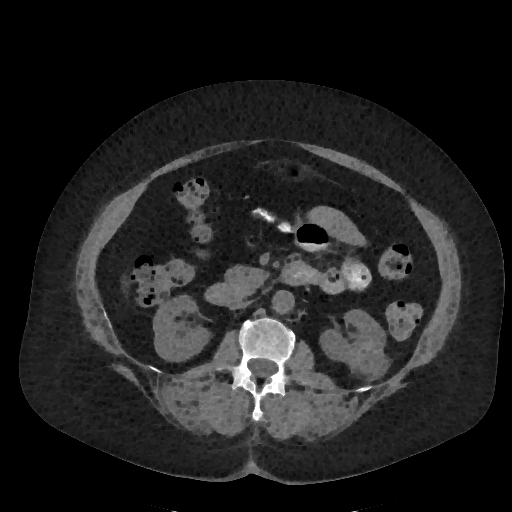Lesion: (349, 345, 391, 381)
